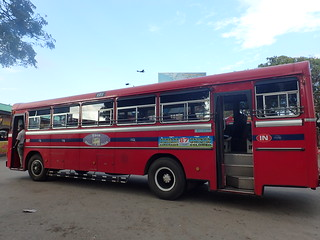bus: (6, 61, 320, 197)
